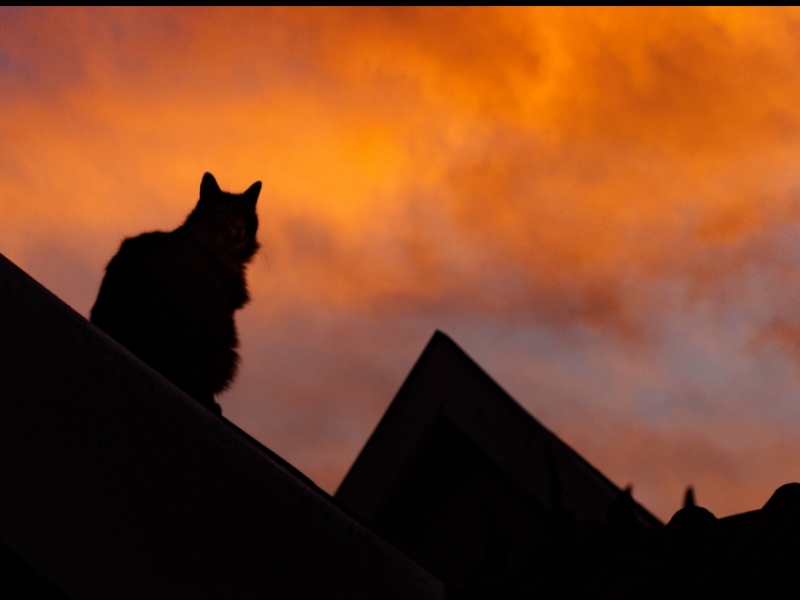cat: (88, 174, 264, 415)
